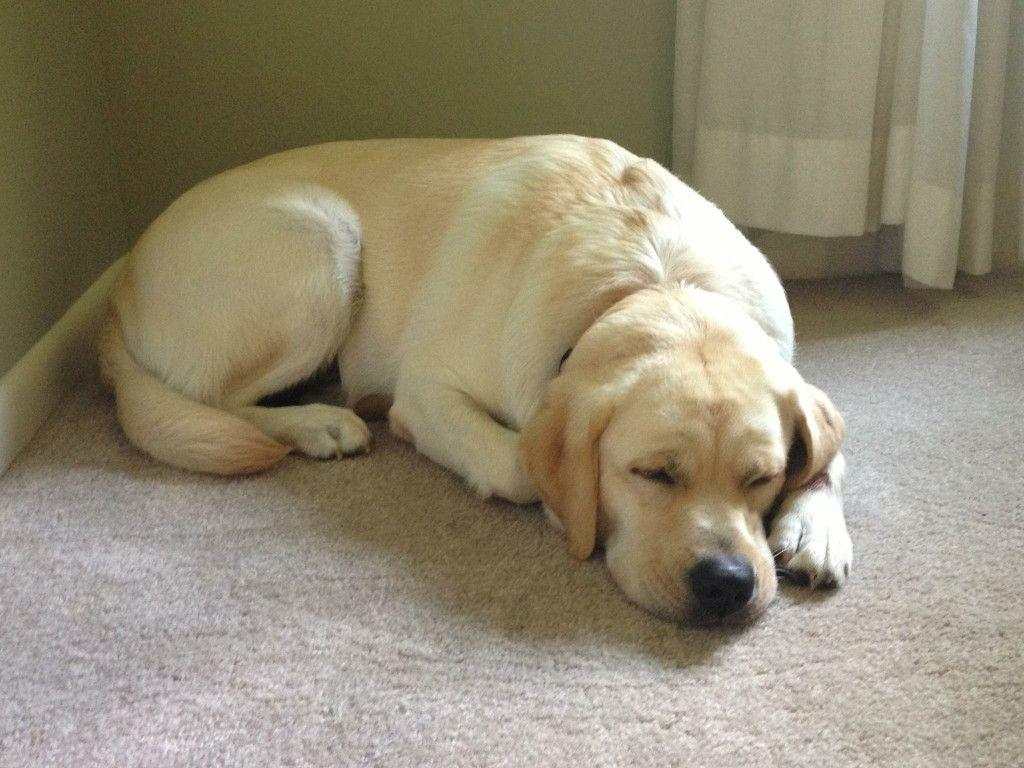adult_dog: (77, 128, 858, 632)
